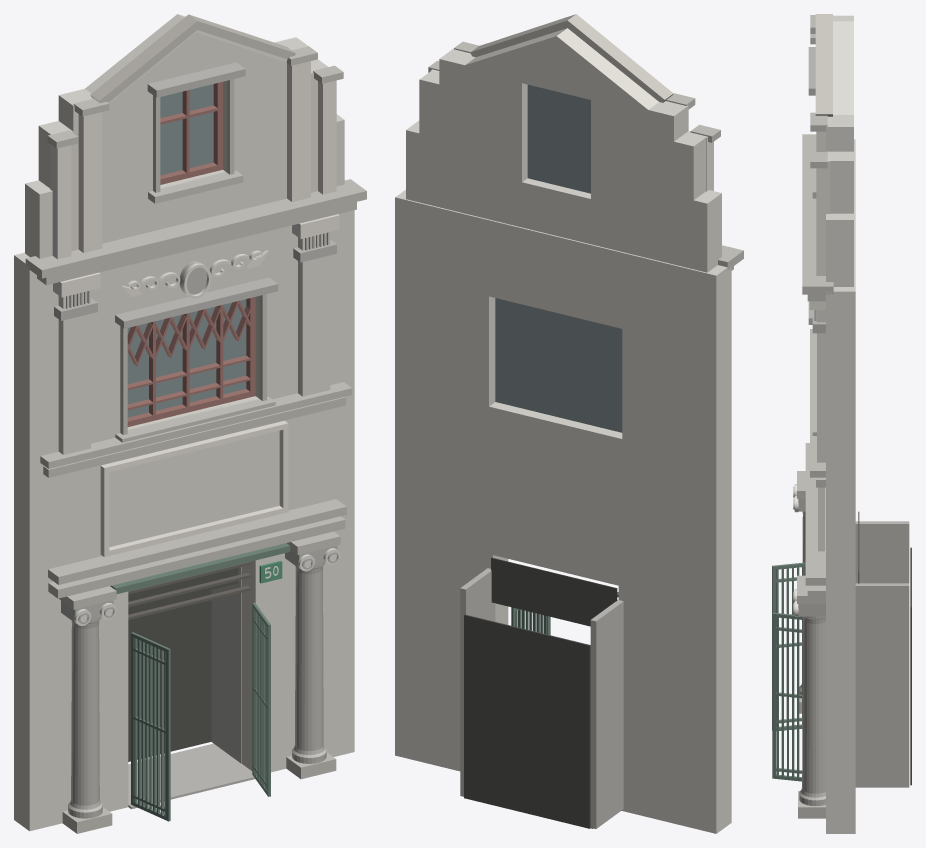
The model's file is huangpu-jiangsu-inn-south-portal-raw.glb.
The picture shows the model from 3 angles, left to right: view 1: azimuth 30°, elevation 25°; view 2: azimuth 150°, elevation 25°; view 3: azimuth 270°, elevation 25°; orthographic projection. The views are drawn at different scales.
Visible parts, largest first — view 1: 江苏旅社弄内南门与山花; view 2: 江苏旅社弄内南门与山花; view 3: 江苏旅社弄内南门与山花.
Part boxes in pixels (x1=…): 江苏旅社弄内南门与山花: x1=14, y1=14, x2=366, y2=833; 江苏旅社弄内南门与山花: x1=395, y1=14, x2=743, y2=833; 江苏旅社弄内南门与山花: x1=772, y1=14, x2=911, y2=833.
Size of the model in its own units: 4.24 by 9.66 by 1.64.
